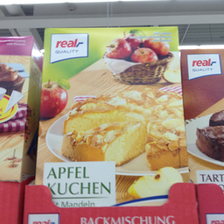cake: (35, 27, 189, 204)
